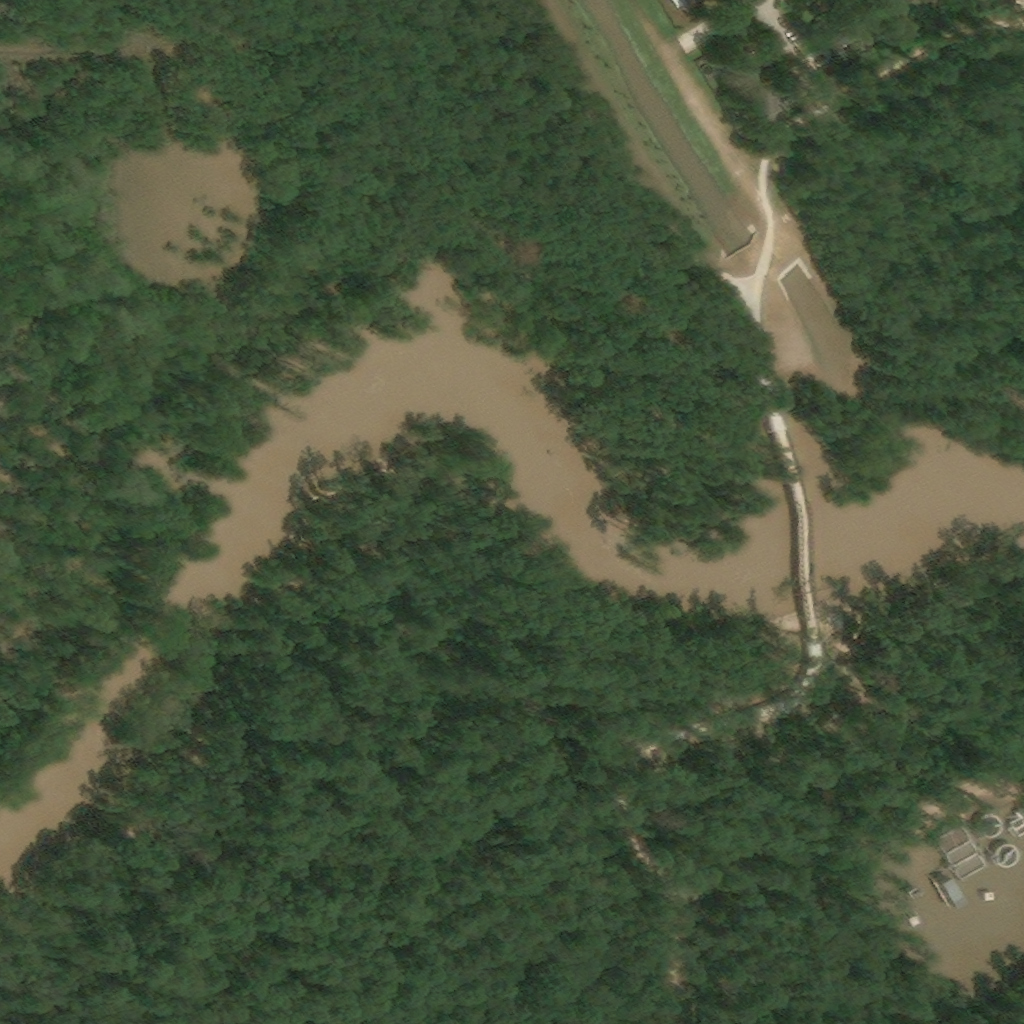major_damage: (933, 824, 987, 884), (741, 89, 802, 140), (936, 875, 963, 910), (992, 844, 1020, 871), (977, 814, 1003, 839), (1009, 807, 1023, 841), (910, 916, 926, 933), (983, 891, 998, 906), (906, 886, 918, 898)
unclassified: (726, 50, 766, 96), (821, 9, 864, 48), (876, 0, 913, 34)
